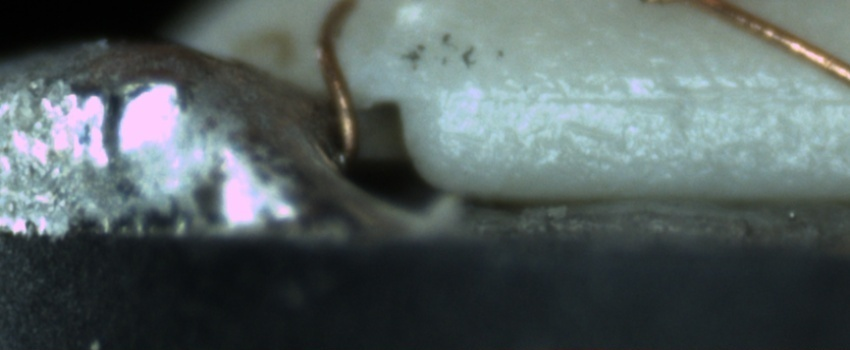DL: (473, 64, 849, 130)
